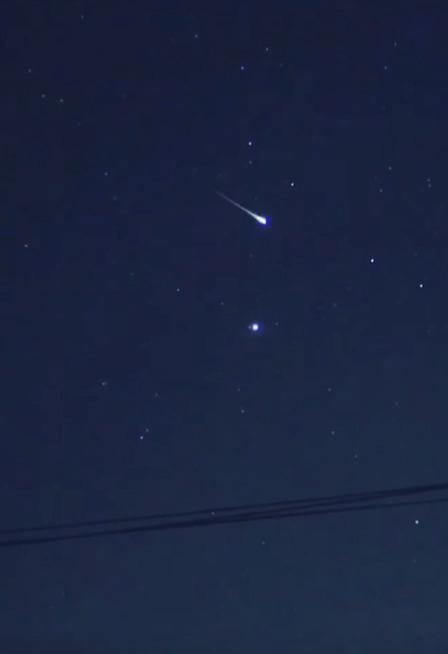meteorite: (204, 185, 286, 236)
